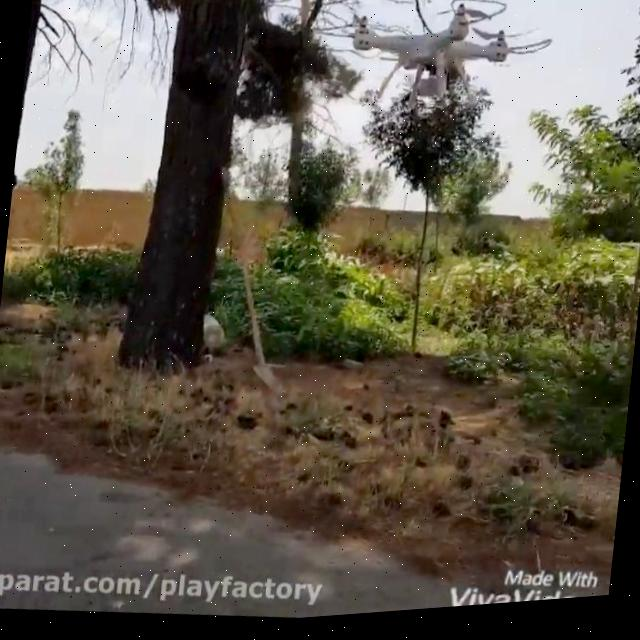drone: (332, 0, 556, 130)
